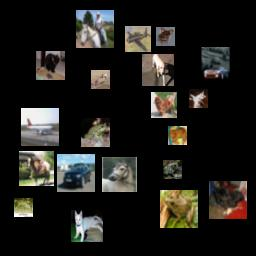airplane: (21, 108, 59, 146), (125, 26, 151, 52)
automobile: (57, 154, 95, 192), (198, 47, 233, 82)
cat: (71, 210, 103, 242), (36, 51, 65, 80), (189, 89, 208, 108), (168, 126, 187, 145)
deer: (14, 198, 33, 217), (91, 70, 110, 89)
dog: (209, 181, 247, 219), (142, 54, 174, 86), (151, 92, 177, 118), (156, 27, 175, 46)
frog: (160, 190, 198, 228), (81, 118, 110, 147), (163, 160, 182, 179)
